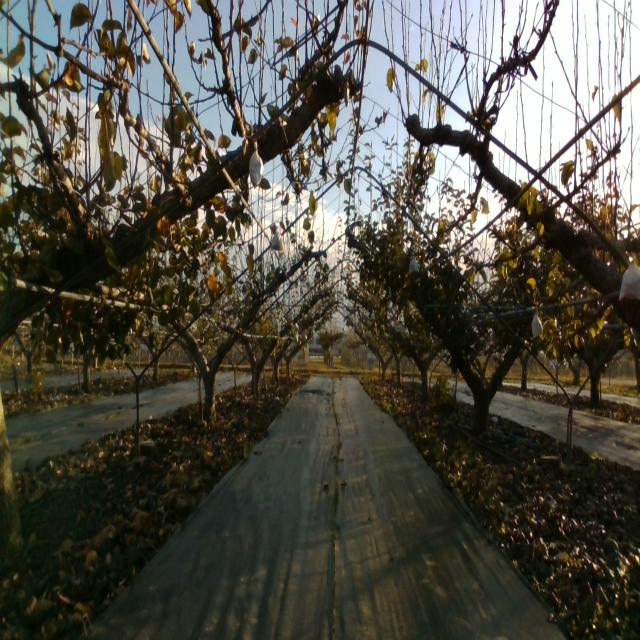pearbags: (618, 259, 640, 302), (249, 140, 264, 190), (531, 312, 543, 338), (270, 231, 284, 251)
